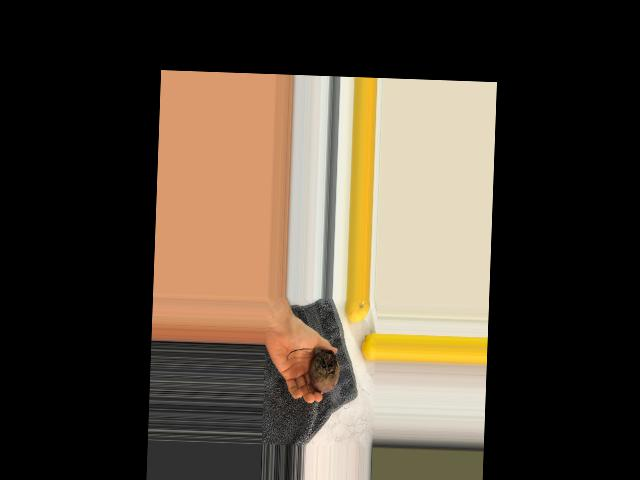beet: (285, 349, 340, 394)
